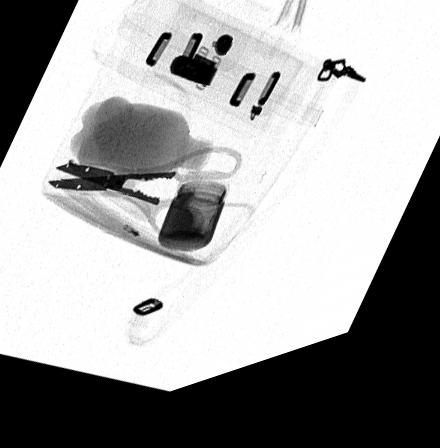Scissors: (44, 156, 246, 251)
